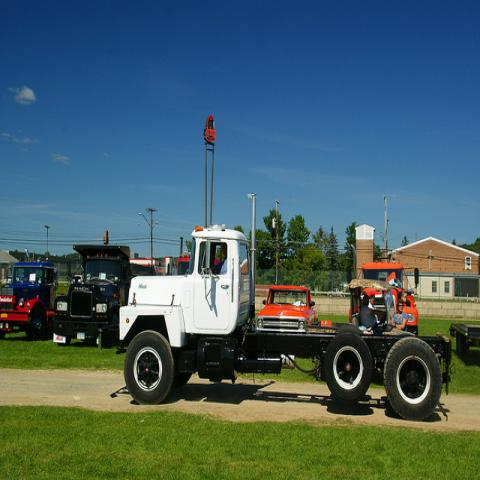truck: (119, 196, 450, 421), (54, 229, 158, 347), (352, 262, 421, 332), (0, 258, 57, 339), (255, 284, 318, 328)
